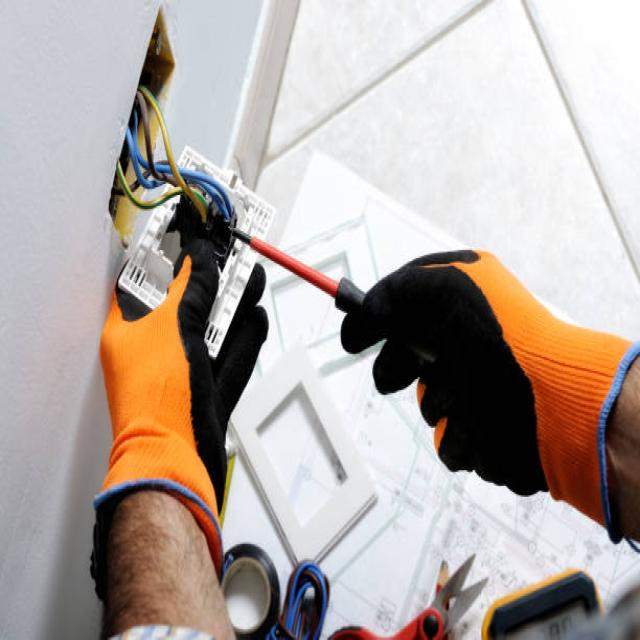gloves: (339, 247, 640, 555), (93, 215, 269, 576)
